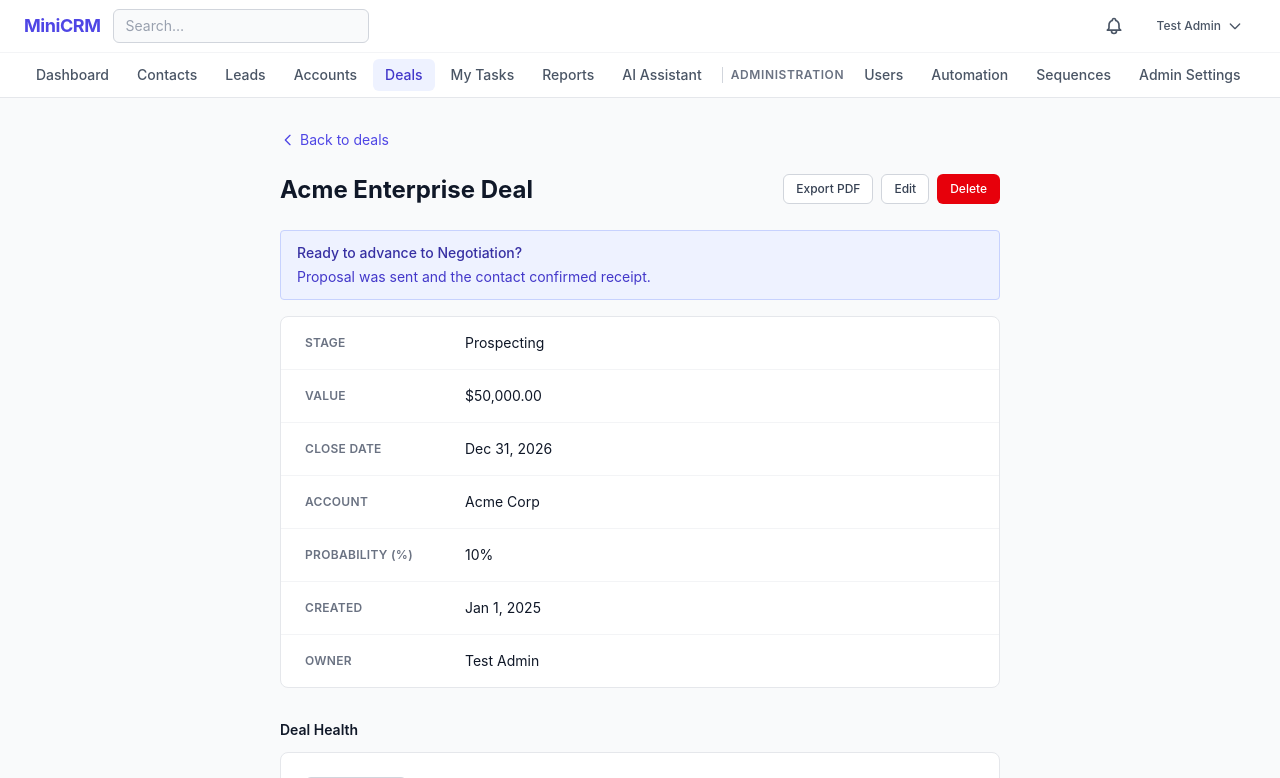
Scenario: DealDetailPage › opens the edit form pre-set to the suggested stage when the indicator is clicked
Click the button with test id "stage-advancement-indicator" at (640, 265), box [280,230,1000,300]
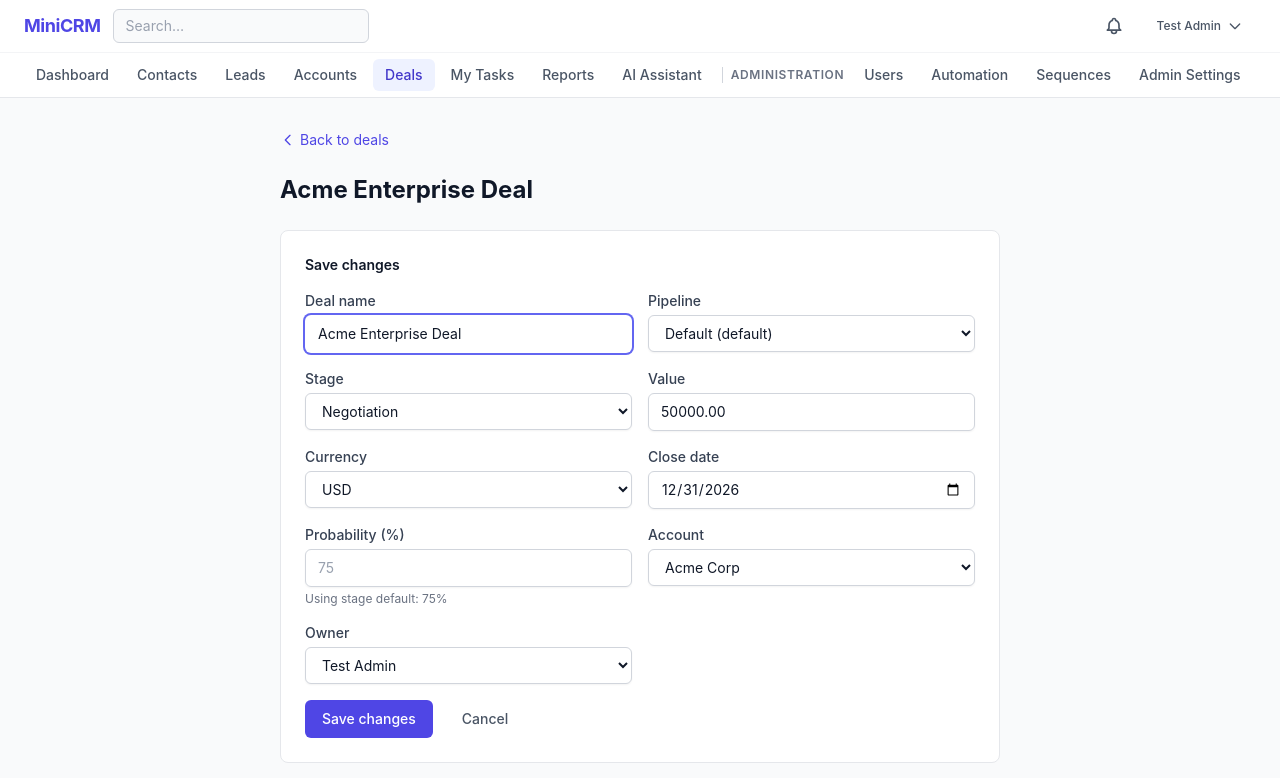
Result: the form with test id "deal-form" is shown at [305,291,975,738]
Result: the dropdown with test id "deal-stage-select" shows "Negotiation" at [305,393,632,430]
